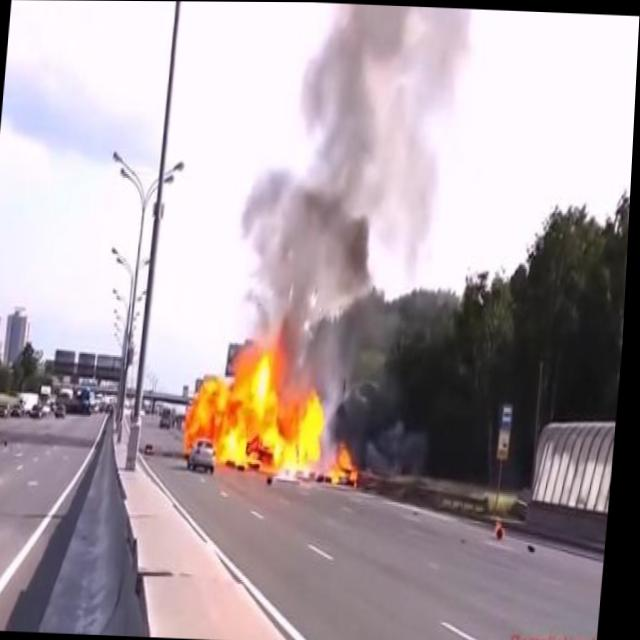fire: (184, 339, 376, 493)
